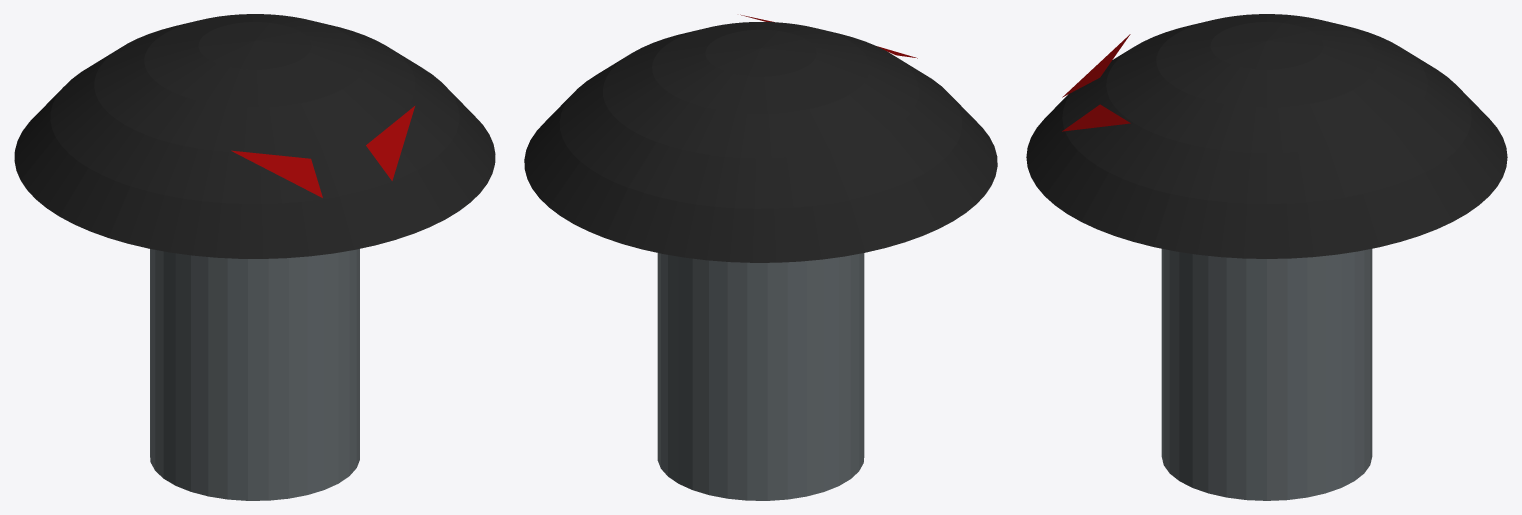
File: 毁灭菇.glb
The picture shows the model from 3 angles, left to right: view 1: azimuth 30°, elevation 25°; view 2: azimuth 150°, elevation 25°; view 3: azimuth 270°, elevation 25°; orthographic projection.
Parts seen in each view (by area): view 1: 球体; view 2: 球体; view 3: 球体.
Part boxes in pixels (x1,y1,x2,y2): 球体: (14, 14, 495, 500); 球体: (524, 14, 997, 500); 球体: (1026, 14, 1507, 500).
Bounding box in the file's own units: 0.9135 × 0.8706 × 0.9135.
